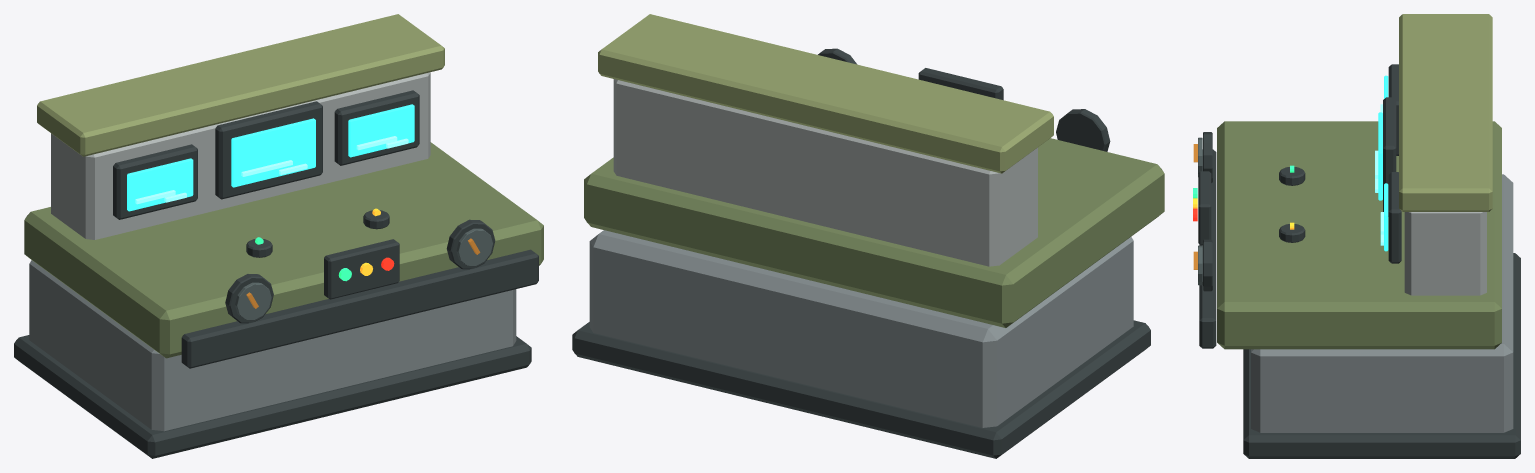
Rendered from reactor_control_panel.glb.
3 renders of one model, left to right at view 1: azimuth 30°, elevation 25°; view 2: azimuth 150°, elevation 25°; view 3: azimuth 270°, elevation 25°, orthographic. The views are drawn at different scales.
Parts seen in each view (by area): view 1: reactor_control_desk_top, reactor_control_base, reactor_control_rear_cowl, reactor_control_rear_bank, reactor_control_lower_shadow, reactor_control_front_rail, reactor_control_center_screen_bezel, reactor_control_center_screen_glass, reactor_control_status_panel, reactor_control_right_screen_bezel, reactor_control_left_screen_bezel, reactor_control_left_screen_glass (+5 smaller); view 2: reactor_control_base, reactor_control_rear_bank, reactor_control_desk_top, reactor_control_rear_cowl, reactor_control_lower_shadow, reactor_control_gauge_left_rim, reactor_control_status_panel; view 3: reactor_control_desk_top, reactor_control_base, reactor_control_rear_cowl, reactor_control_lower_shadow, reactor_control_rear_bank, reactor_control_front_rail, reactor_control_center_screen_bezel, reactor_control_right_screen_bezel, reactor_control_status_panel, reactor_control_left_screen_bezel, reactor_control_gauge_right_rim, reactor_control_center_screen_glass (+4 smaller).
Part boxes in pixels (x1,y1,x2,y2): reactor_control_desk_top: (24,142,543,358); reactor_control_base: (29,260,516,431); reactor_control_rear_cowl: (37,14,444,156); reactor_control_rear_bank: (51,72,430,239); reactor_control_lower_shadow: (14,335,531,458); reactor_control_front_rail: (181,249,538,368); reactor_control_center_screen_bezel: (215,101,322,199); reactor_control_center_screen_glass: (231,118,315,187); reactor_control_status_panel: (324,239,399,299); reactor_control_right_screen_bezel: (334,90,419,165); reactor_control_left_screen_bezel: (113,144,197,219); reactor_control_left_screen_glass: (127,158,193,211); reactor_control_base: (589,230,1133,427); reactor_control_rear_bank: (613,79,1037,266); reactor_control_desk_top: (584,138,1164,327); reactor_control_rear_cowl: (598,14,1053,173); reactor_control_lower_shadow: (572,320,1150,458); reactor_control_gauge_left_rim: (1056,109,1110,151); reactor_control_status_panel: (918,68,1003,100); reactor_control_desk_top: (1217,121,1501,349); reactor_control_base: (1251,174,1513,432); reactor_control_rear_cowl: (1399,14,1492,211); reactor_control_lower_shadow: (1243,253,1520,458); reactor_control_rear_bank: (1404,212,1486,295); reactor_control_front_rail: (1199,149,1216,348); reactor_control_center_screen_bezel: (1383,97,1396,216); reactor_control_right_screen_bezel: (1388,172,1401,263); reactor_control_status_panel: (1198,171,1211,244); reactor_control_left_screen_bezel: (1388,64,1398,155); reactor_control_gauge_right_rim: (1203,239,1212,291); reactor_control_center_screen_glass: (1378,112,1382,200).
Bounding box in the file's own units: 1.18 × 0.785 × 0.874.
